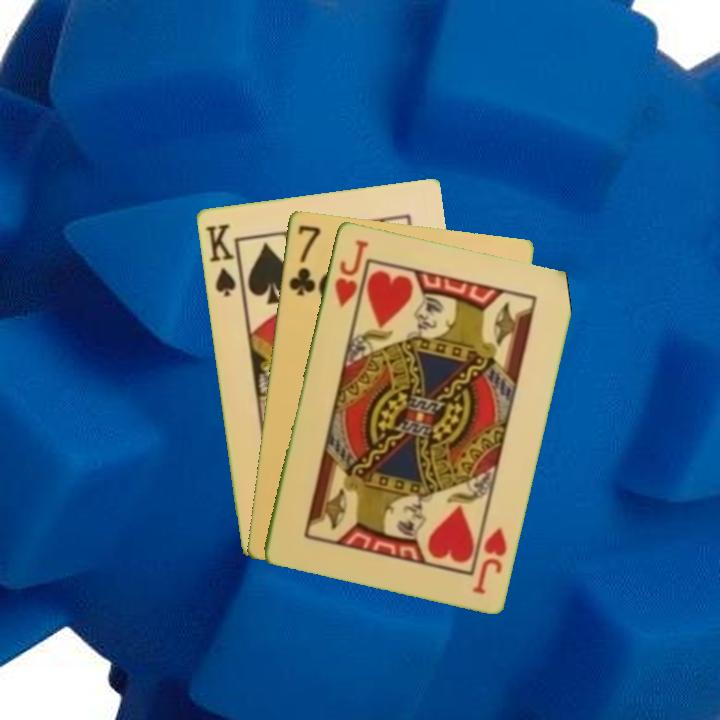7c: (285, 221, 324, 298)
Jh: (468, 523, 510, 597), (330, 235, 371, 310)
Ks: (201, 220, 238, 299)
